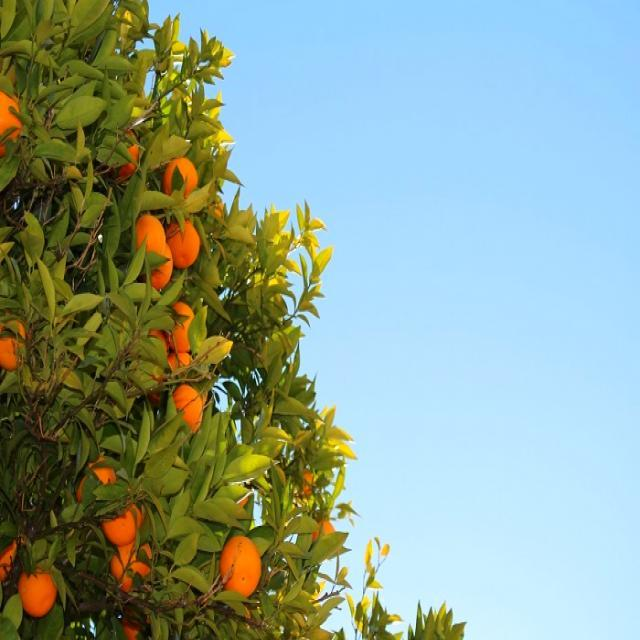Jeruk Sudah Matang: (219, 532, 265, 604), (15, 558, 61, 622), (161, 209, 204, 270), (166, 379, 208, 438), (161, 152, 201, 206), (167, 295, 200, 357), (0, 315, 33, 373), (0, 88, 26, 158), (132, 212, 168, 262)
